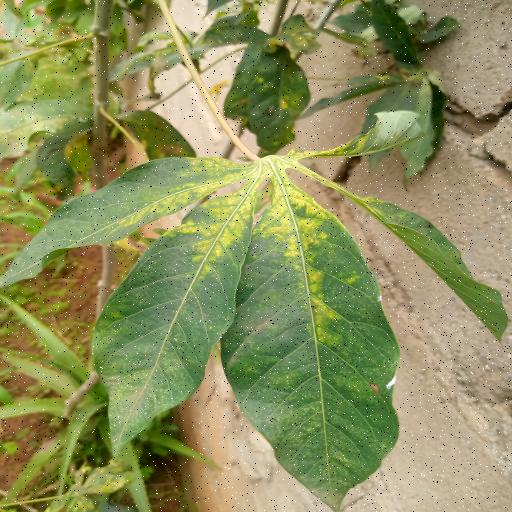Cassava_Mosaic: (9, 143, 512, 512)
